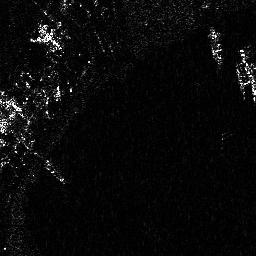ship: (208, 25, 222, 65)
